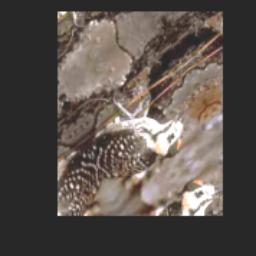Woodpecker: (78, 55, 206, 200)
